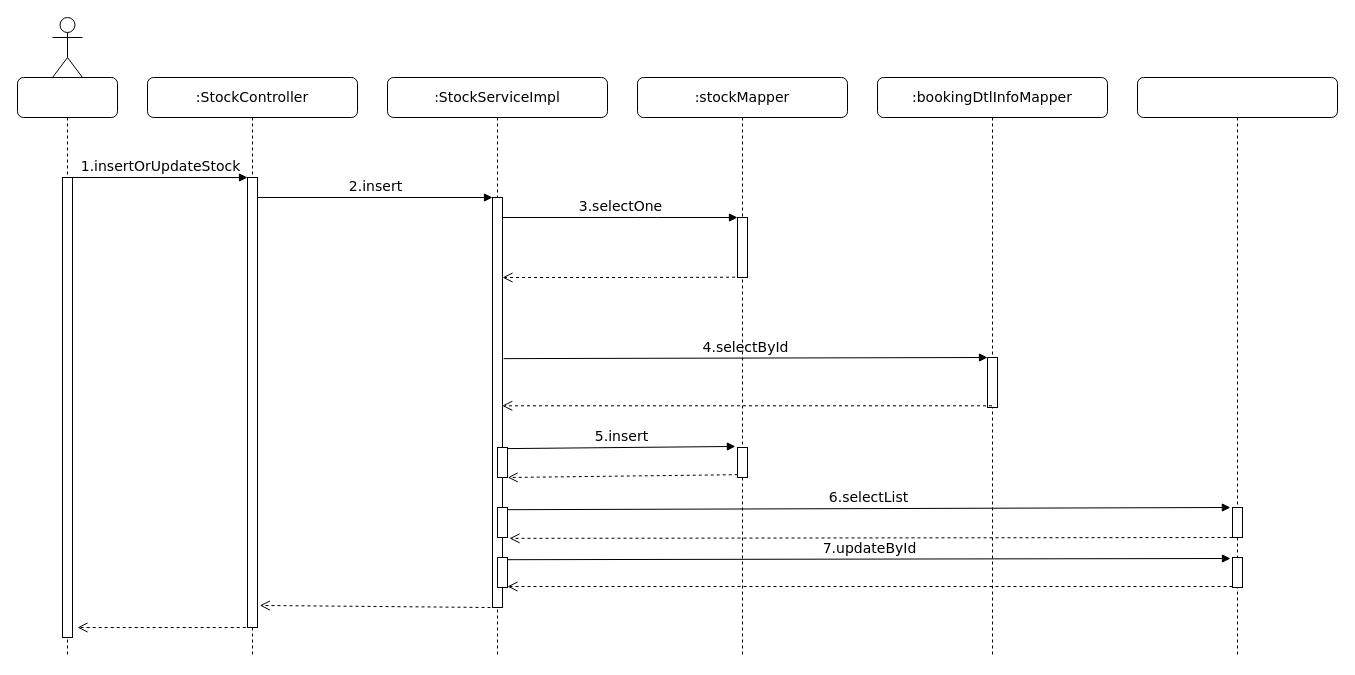
The diagram is 1355 pixels wide and 675 high, and some of its shapes have lost their labels. The shapes that lost their labels are listed below. From the top down, each one's box as (x1, y1, x2, y2) in pixels, then its label:
(16, 76, 118, 658): 管理人员
(1136, 76, 1338, 658): :areaCargoPalletMapper
